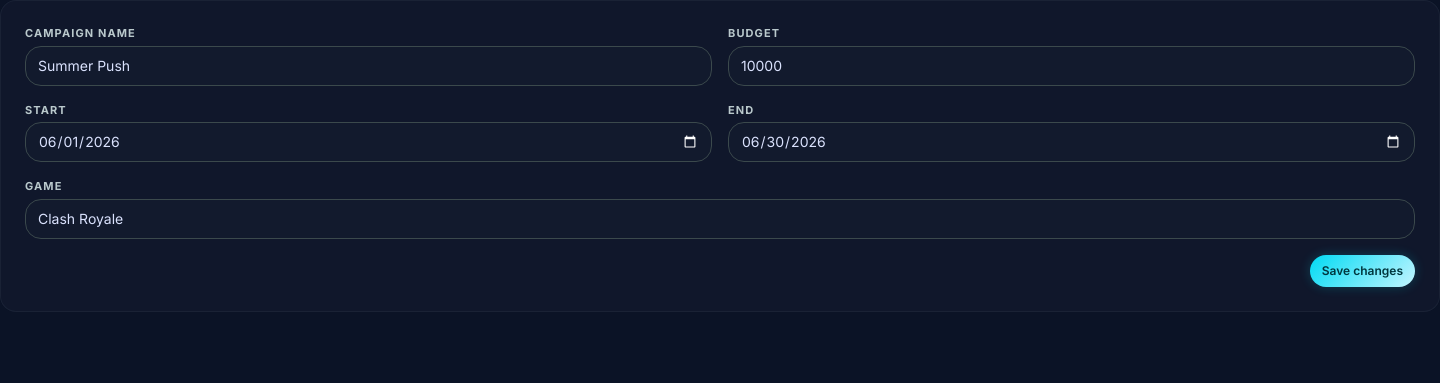
Test case: CampaignEditForm › maps the action error code to a localized message
Click the button with test id "campaign-edit-save" at (1362, 270), box [1310,254,1415,286]
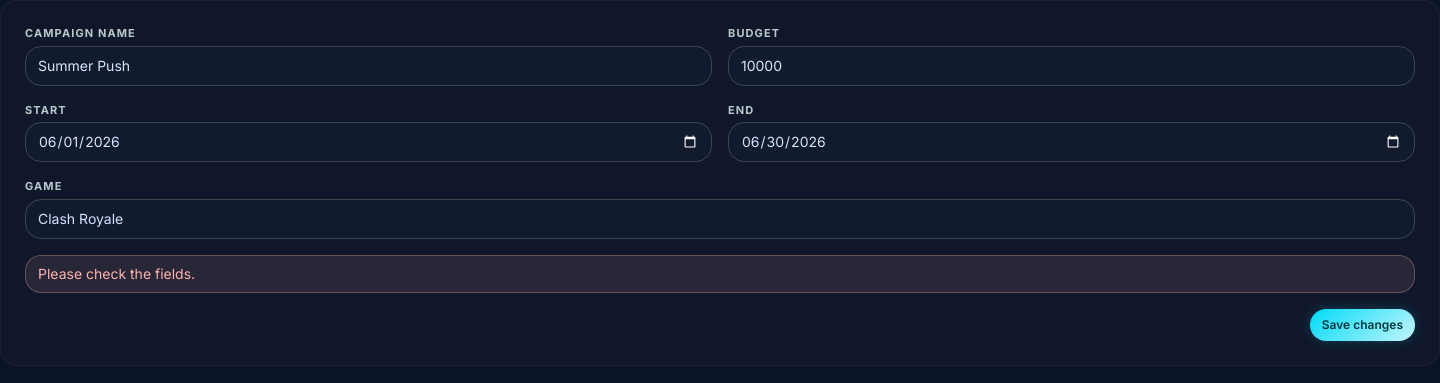
Expected: the message with test id "campaign-edit-error" reads "Please check the fields.", [38,264,195,282]
